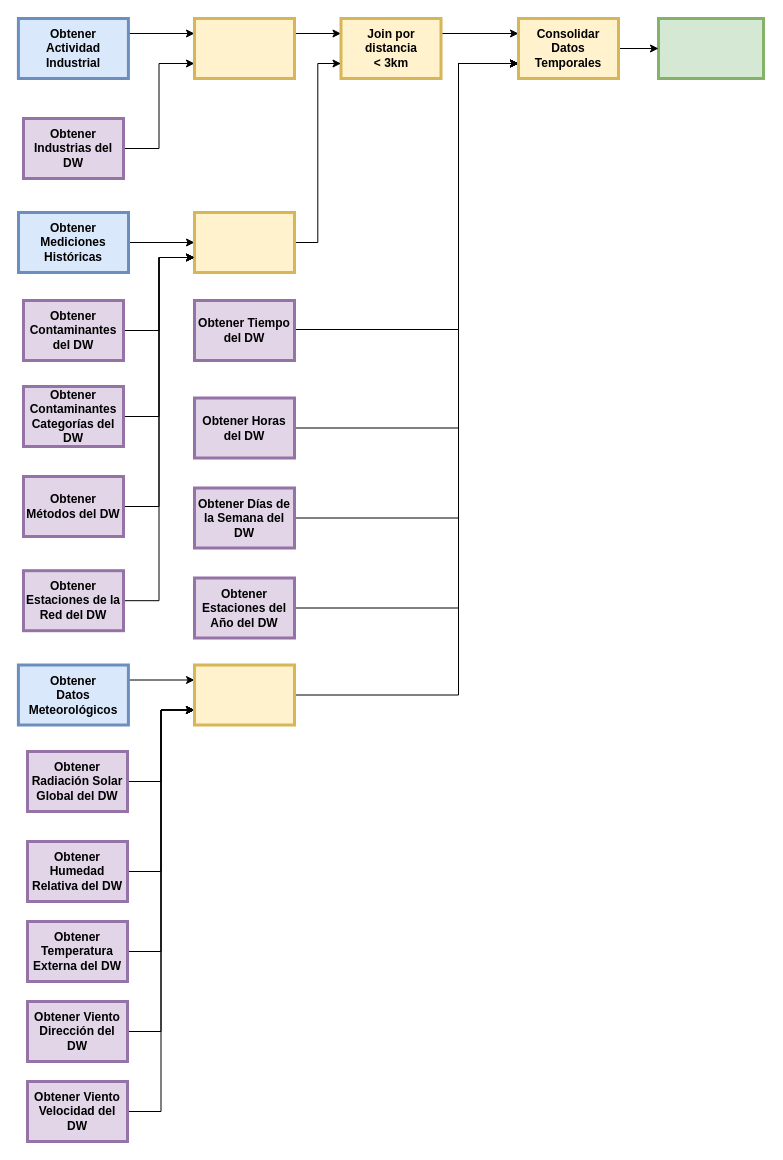
The diagram is 783 pixels wide and 1160 high, and some of its shapes have lost their labels. The shapes that lost their labels are listed below. From the top down, each one's centre as x and y in pixels, then its label:
At pixel 244 48: "Consolidar Datos Actividad Industrial".
At pixel 710 48: "Almacenar en DW".
At pixel 244 242: "Consolidar Datos Mediciones Históricas".
At pixel 244 694: "Consolidar Datos Meteorológicos".
